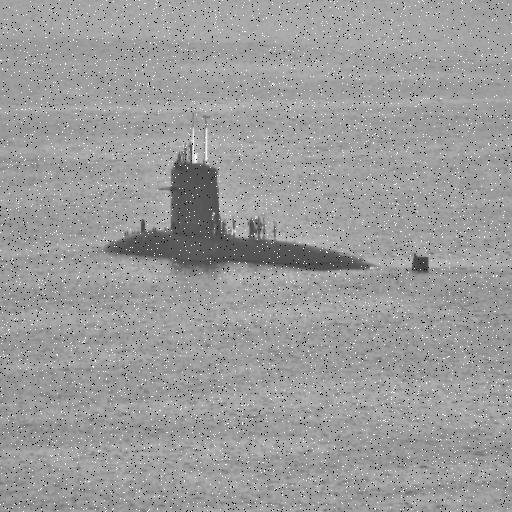submarine: (93, 164, 428, 275)
